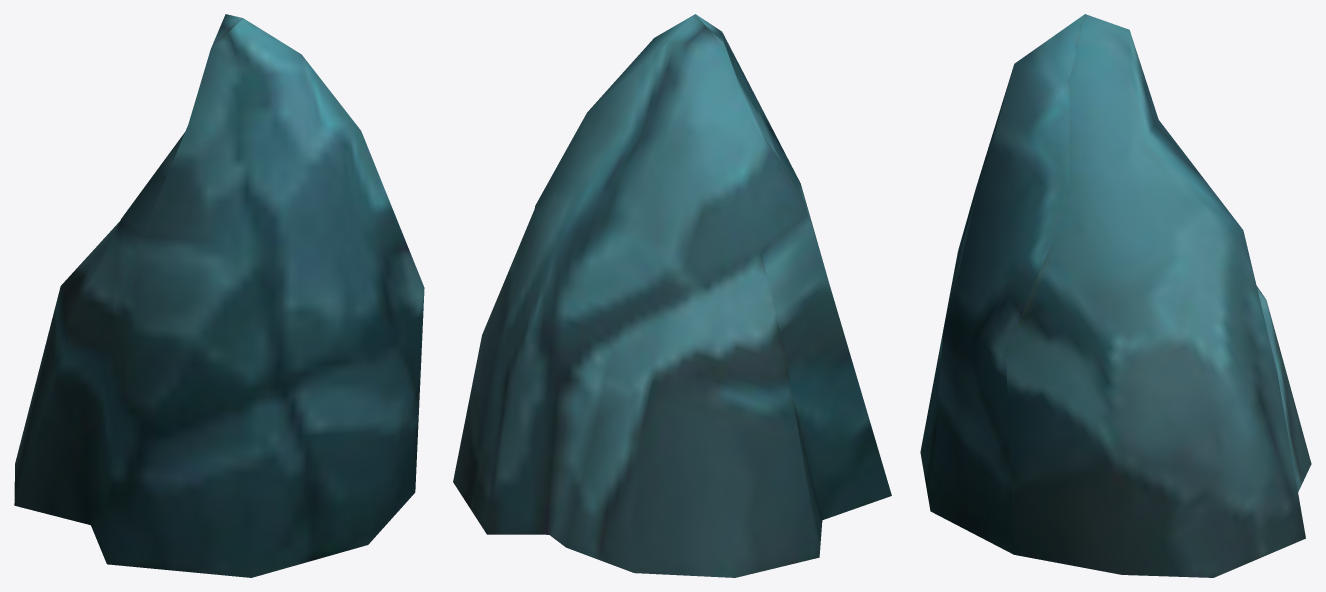
File: Battle01_Stone_06.FBX
3 views of the same model, side by side, from view 1: azimuth 30°, elevation 25°; view 2: azimuth 150°, elevation 25°; view 3: azimuth 270°, elevation 25° (orthographic). The views are drawn at different scales.
Visible parts, largest first — view 1: C01_Stone_06; view 2: C01_Stone_06; view 3: C01_Stone_06.
Boxes of the visible parts, <box> form: C01_Stone_06: <box>14,14,424,577</box>; C01_Stone_06: <box>453,14,891,577</box>; C01_Stone_06: <box>920,14,1311,577</box>.
Size of the model in its own units: 2.18 by 2.76 by 2.06.
